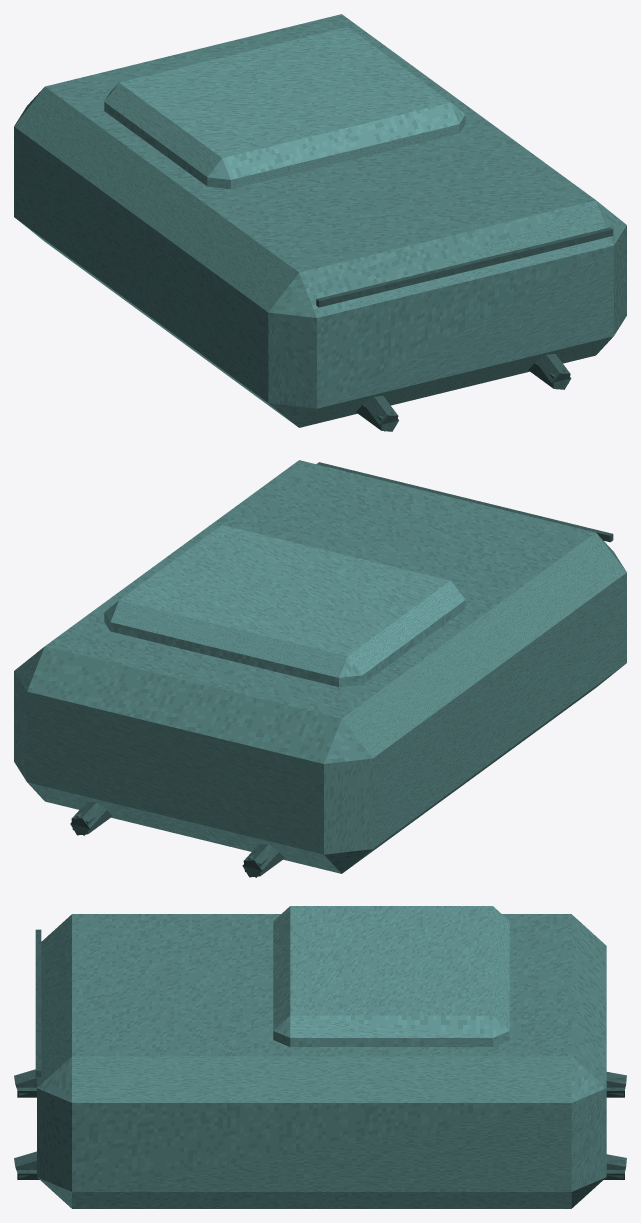
Rendered from backpack.glb.
3 views of the same model, one above another, from view 1: azimuth 30°, elevation 25°; view 2: azimuth 150°, elevation 25°; view 3: azimuth 270°, elevation 25° (orthographic).
Visible parts, largest first — view 1: block_bag body, block_front pocket, block_zipper or closure, block_shoulder harness -0.0696 2, block_shoulder harness 0.0696 2; view 2: block_bag body, block_front pocket, block_zipper or closure, block_shoulder harness 0.0696 0, block_shoulder harness -0.0696 0; view 3: block_bag body, block_front pocket, block_zipper or closure, block_shoulder harness -0.0696 1.
Part boxes in pixels (x1=…): block_bag body: x1=14, y1=14, x2=626, y2=427; block_front pocket: x1=104, y1=27, x2=465, y2=189; block_zipper or closure: x1=316, y1=227, x2=613, y2=307; block_shoulder harness -0.0696 2: x1=363, y1=396, x2=398, y2=431; block_shoulder harness 0.0696 2: x1=535, y1=354, x2=570, y2=389; block_bag body: x1=14, y1=460, x2=626, y2=873; block_front pocket: x1=104, y1=525, x2=465, y2=687; block_zipper or closure: x1=316, y1=462, x2=613, y2=542; block_shoulder harness 0.0696 0: x1=71, y1=801, x2=107, y2=835; block_shoulder harness -0.0696 0: x1=243, y1=843, x2=279, y2=877; block_bag body: x1=37, y1=914, x2=606, y2=1208; block_front pocket: x1=273, y1=906, x2=509, y2=1046; block_zipper or closure: x1=35, y1=929, x2=41, y2=1076; block_shoulder harness -0.0696 1: x1=17, y1=1077, x2=624, y2=1097.
Size of the model in its own units: 0.29 by 0.1392 by 0.4369.
1 material, 1 textured.
